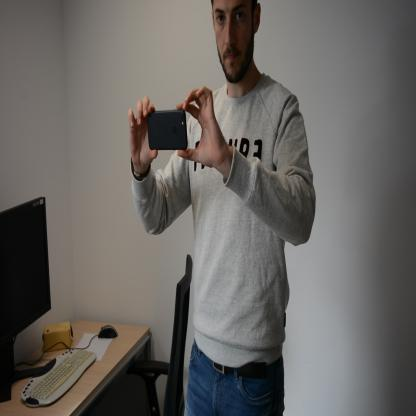smartphone: (146, 108, 188, 151)
